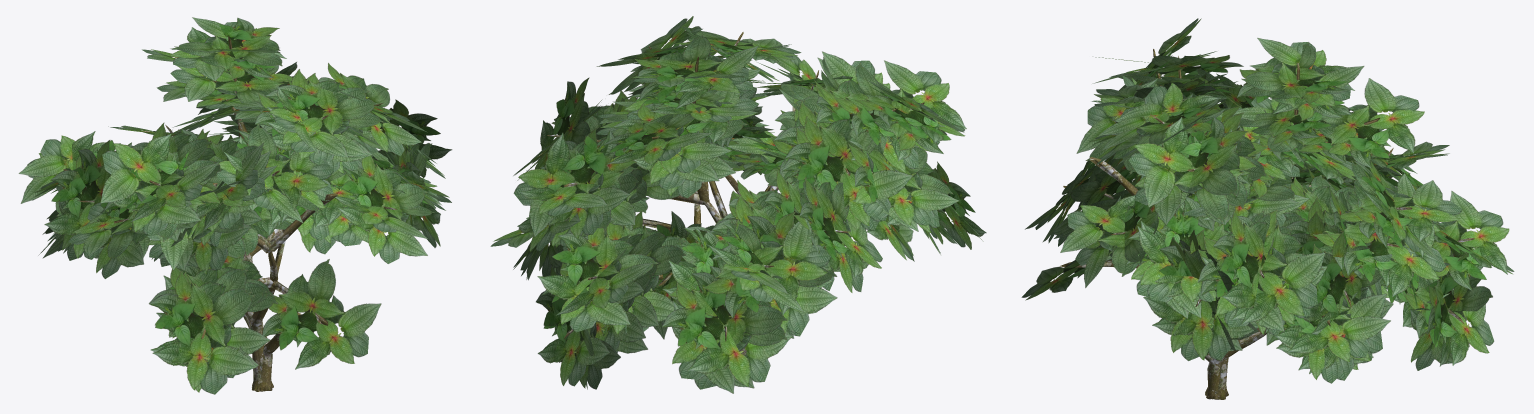
Rendered from bush_tree_05_B_-_copy_001.glb.
3 views of the same model, side by side, from view 1: azimuth 30°, elevation 25°; view 2: azimuth 150°, elevation 25°; view 3: azimuth 270°, elevation 25° (orthographic). The views are drawn at different scales.
Visible parts, largest first — view 1: bush_tree_05_B - copy.001; view 2: bush_tree_05_B - copy.001; view 3: bush_tree_05_B - copy.001.
Boxes of the visible parts, x1,y1,x2,y2 form: bush_tree_05_B - copy.001: (19, 17, 452, 394); bush_tree_05_B - copy.001: (490, 16, 986, 393); bush_tree_05_B - copy.001: (1021, 18, 1514, 399).
Size of the model in its own units: 0.9122 by 0.7357 by 0.9781.
2 materials, 2 textured.
